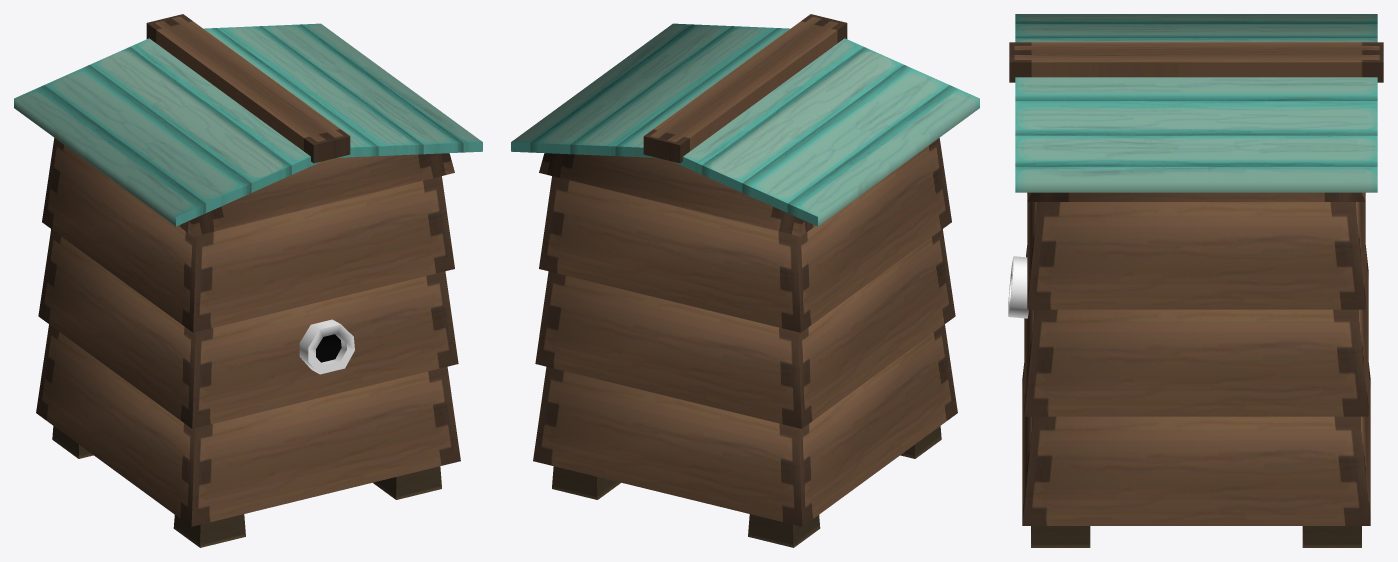
File: BeehiveHand.fbx
The picture shows the model from 3 angles, left to right: view 1: azimuth 30°, elevation 25°; view 2: azimuth 150°, elevation 25°; view 3: azimuth 270°, elevation 25°; orthographic projection. The views are drawn at different scales.
Visible parts, largest first — view 1: Beehive; view 2: Beehive; view 3: Beehive.
Part boxes in pixels (box(x1,y1,x2,y2)): Beehive: box(14, 14, 482, 547); Beehive: box(511, 14, 979, 547); Beehive: box(1008, 14, 1383, 547).
Bounding box in the file's own units: 0.6533 × 0.7817 × 0.618.
1 material, 1 textured.
